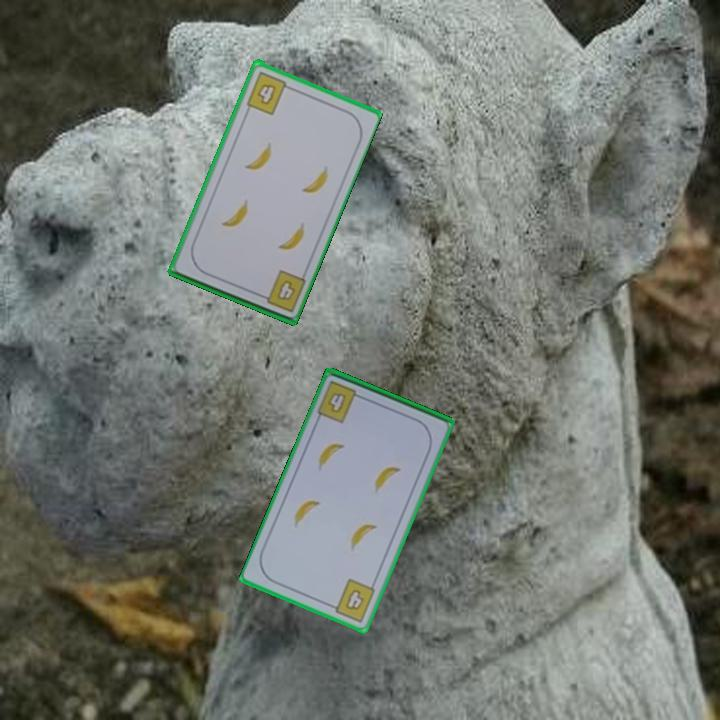4b: (325, 575, 378, 625), (313, 377, 367, 426), (243, 67, 295, 117), (273, 276, 298, 303)
